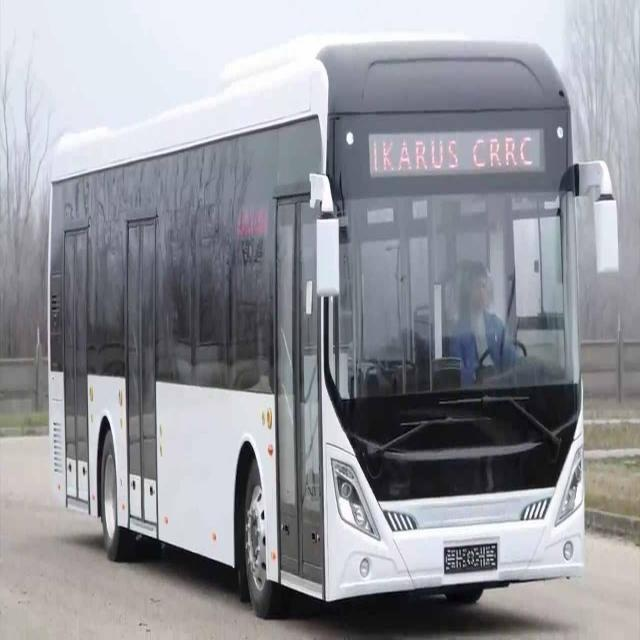bus: (12, 32, 633, 628)
